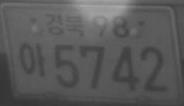2: (142, 45, 169, 92)
4: (111, 44, 141, 90)
5: (53, 43, 80, 88)
7: (80, 44, 105, 89)
8: (111, 14, 130, 38)
9: (91, 13, 109, 37)
경북_H: (45, 12, 85, 37)
아: (18, 41, 46, 77)
